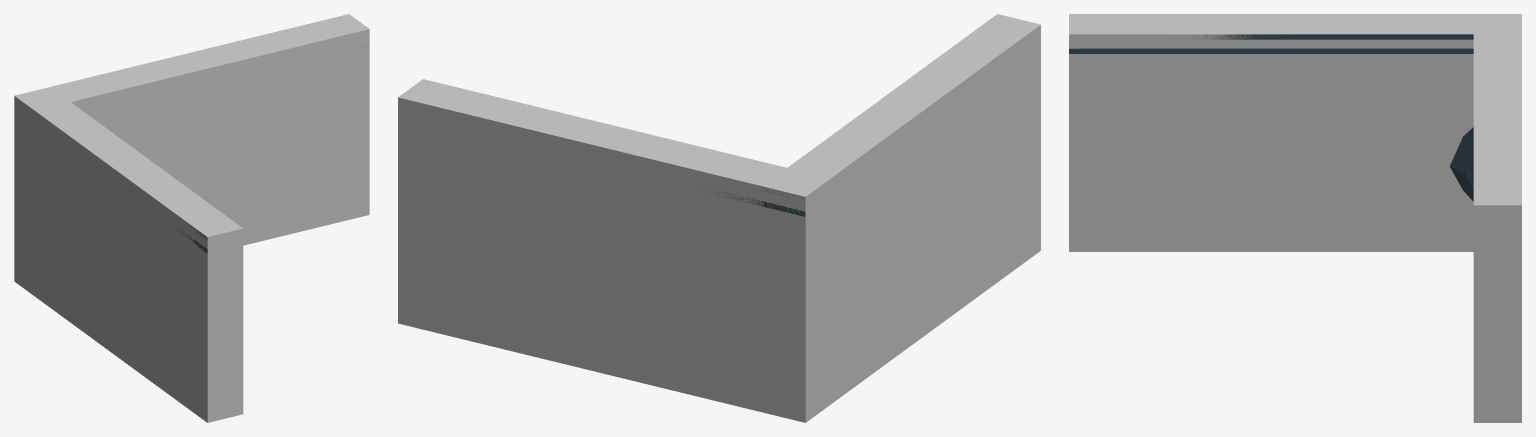
File: SM_Railing_Corner.fbx
3 views of the same model, side by side, from view 1: azimuth 30°, elevation 25°; view 2: azimuth 150°, elevation 25°; view 3: azimuth 270°, elevation 25° (orthographic). The views are drawn at different scales.
Visible parts, largest first — view 1: SM_Railing_Corner_ConvexHulls; view 2: SM_Railing_Corner_ConvexHulls; view 3: SM_Railing_Corner_ConvexHulls, SM_Railing_Corner.
Part boxes in pixels (x1,y1,x2,y2): SM_Railing_Corner_ConvexHulls: (14,14,369,422); SM_Railing_Corner_ConvexHulls: (398,14,1040,422); SM_Railing_Corner_ConvexHulls: (1069,14,1521,422); SM_Railing_Corner: (1069,34,1473,201).
Bounding box in the file's own units: 211 × 211 × 112.
